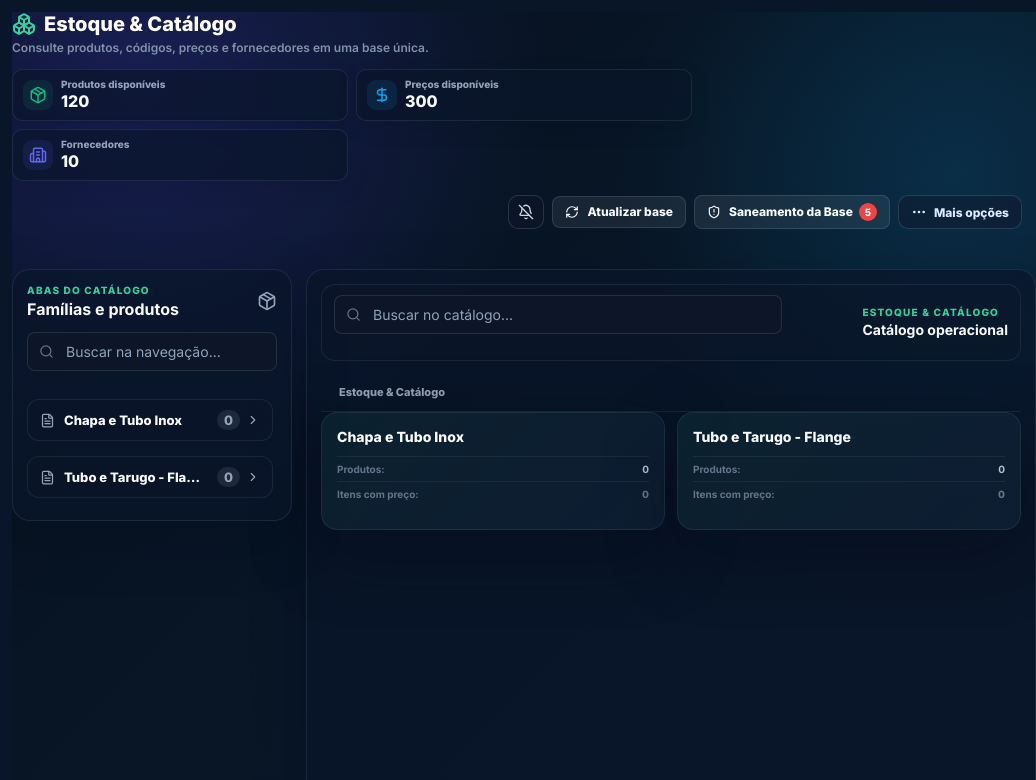
Test case: StockPage Component Tests › painel esquerdo mostra produtos validos e oculta atributos isolados
Expected: the element labelled "Abas do Catálogo" is shown, [12,269,292,521]
Click the text "Chapa e Tubo Inox" at (123, 420), box [64,412,182,428]
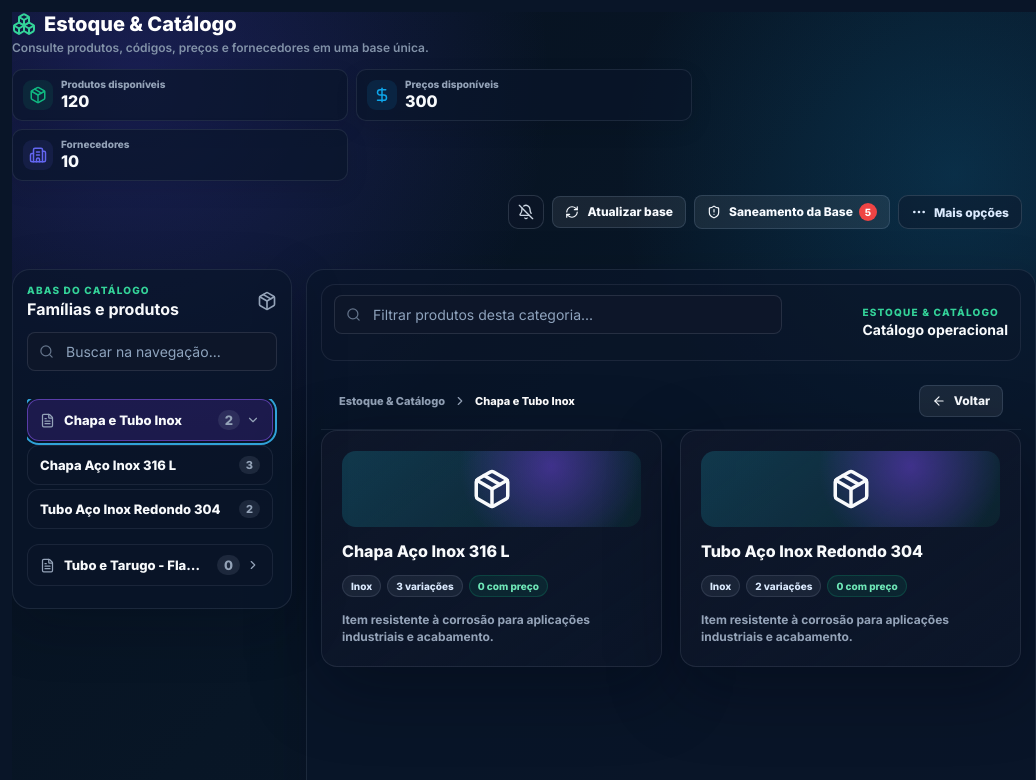
Result: the text "Chapa Aço Inox 316 L" is shown at [40,457,176,473]
Result: the text "Tubo Aço Inox Redondo 304" is shown at [40,501,220,517]
